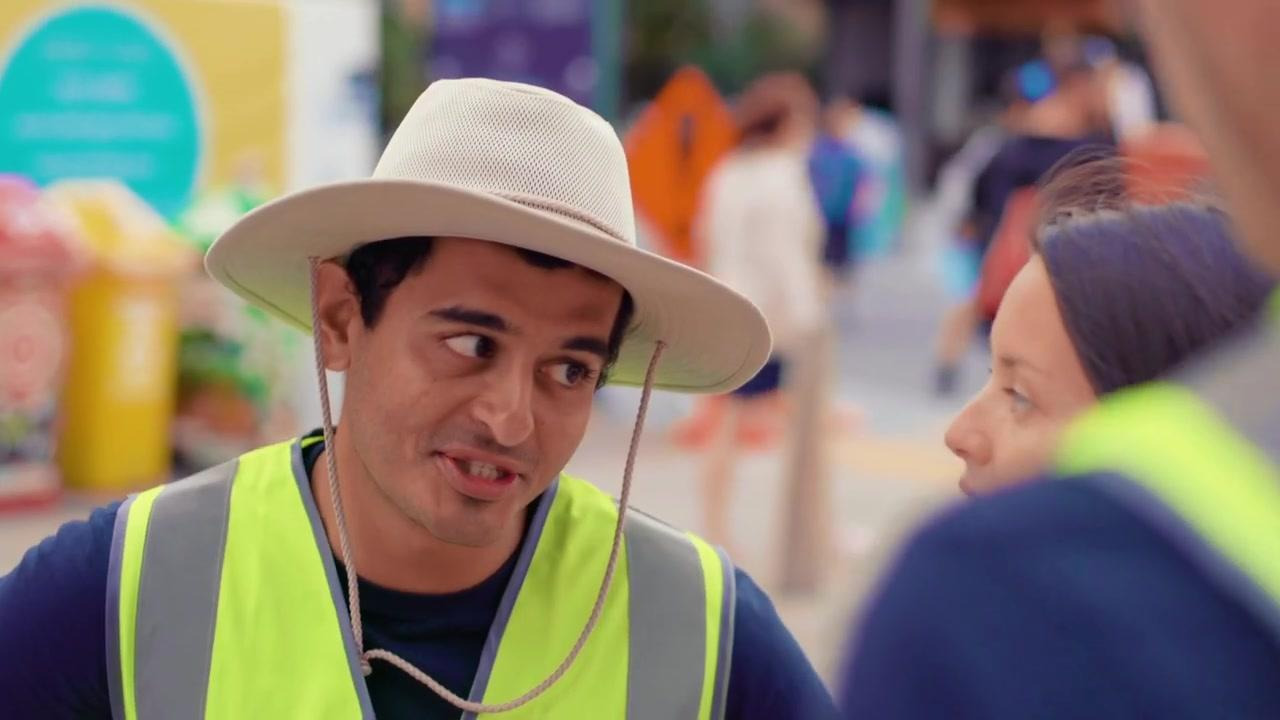vest: (100, 418, 742, 716)
